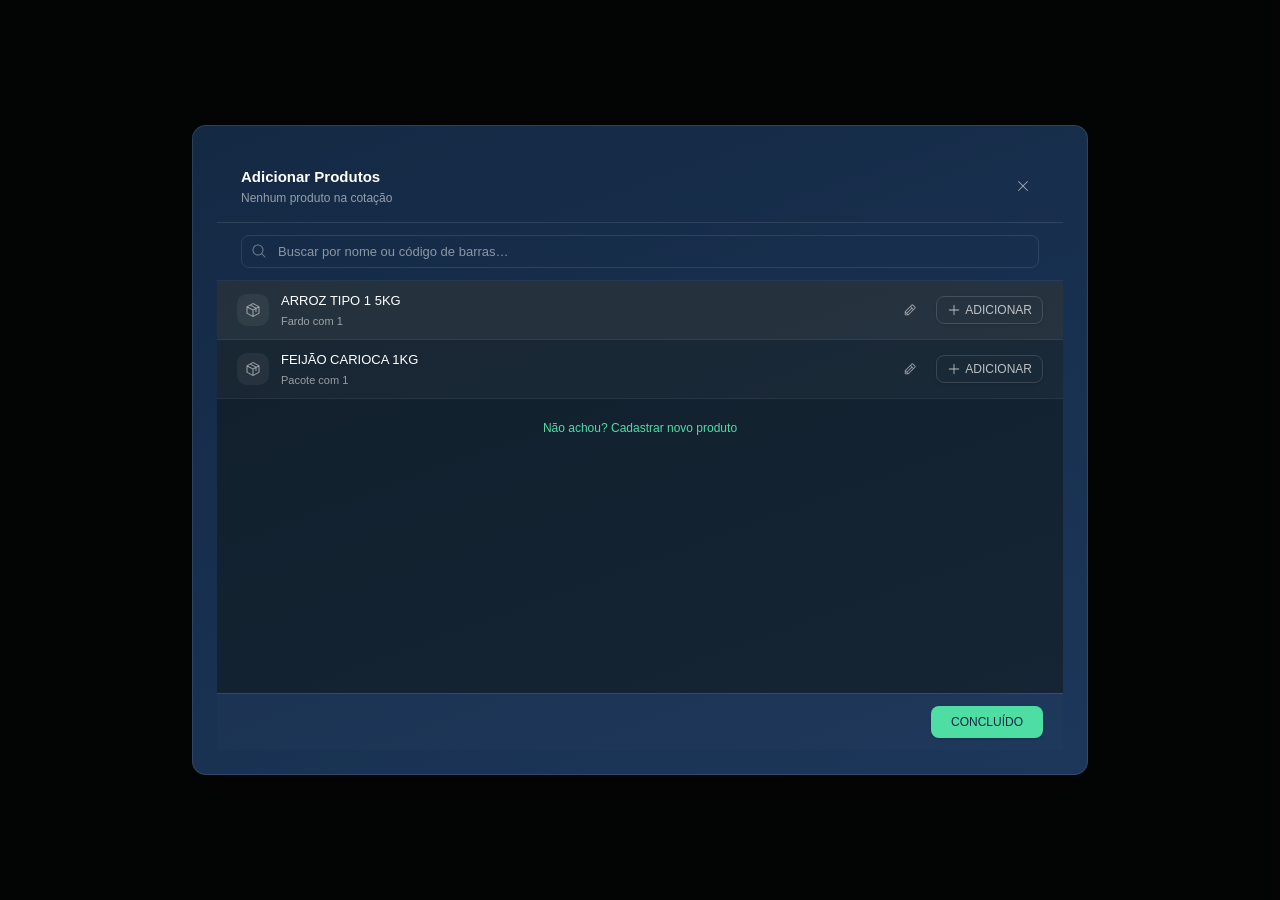
Test: AdicionarItemModal › busca casa por código de barras, inclusive pelos últimos dígitos
Expected: the text "Arroz Tipo 1 5kg" is shown, [281,293,401,308]
Step 1. Type "3412" into the field with placeholder "Buscar por nome ou código de barras…" → (640, 251), box [241,234,1039,268]
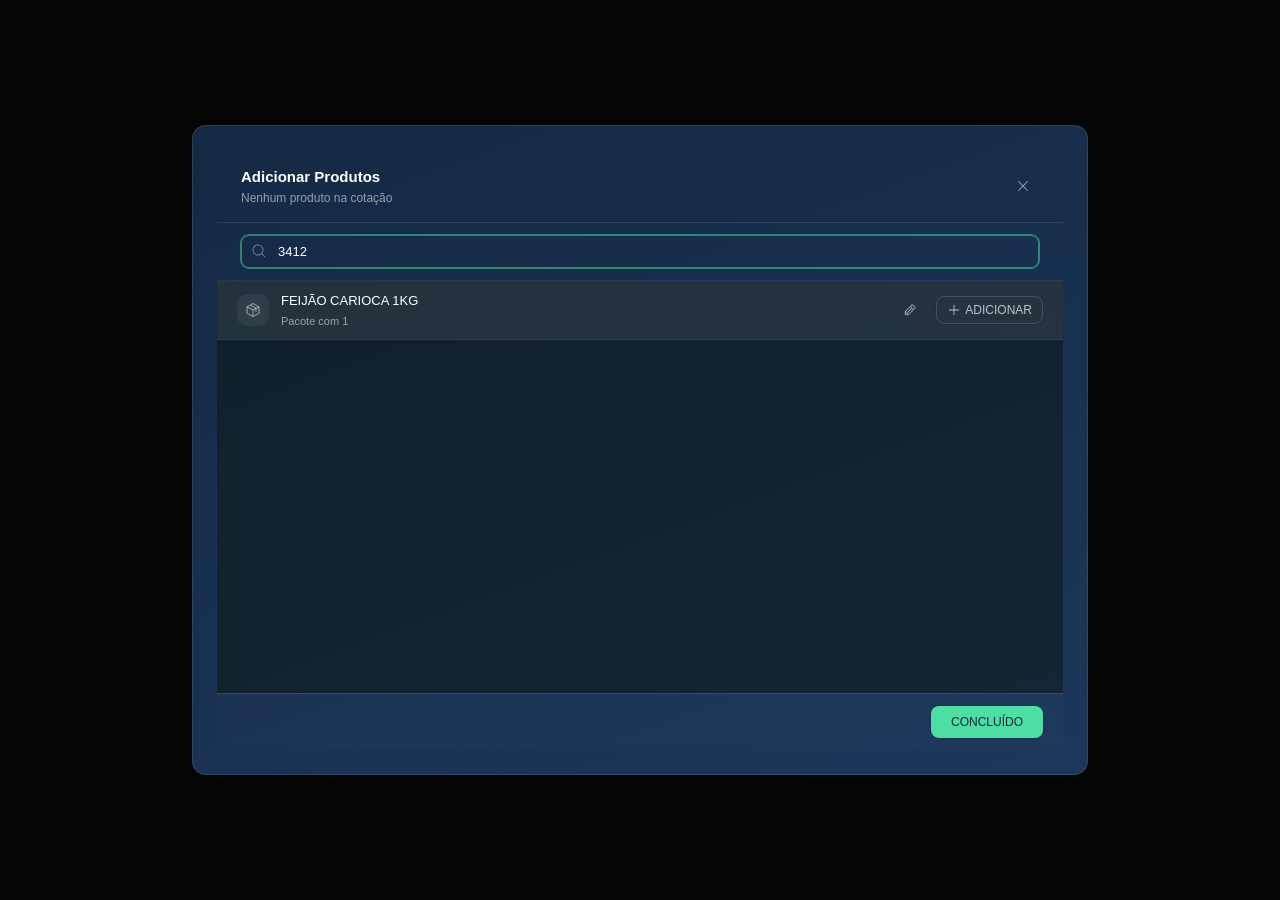
Expected: the text "Feijão Carioca 1kg" is shown, [281,293,418,308]
Result: the text "Arroz Tipo 1 5kg" is gone
